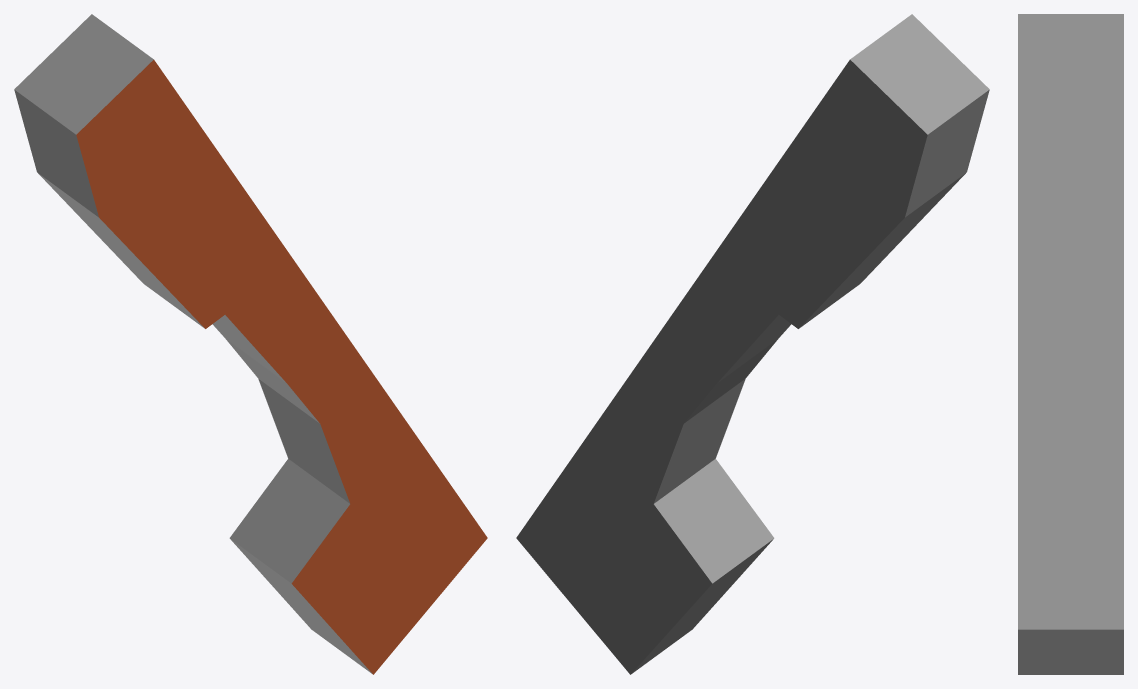
The model's file is construction_3304_assumed_A_Casa_h6m.obj.
3 views of the same model, side by side, from view 1: azimuth 30°, elevation 25°; view 2: azimuth 150°, elevation 25°; view 3: azimuth 270°, elevation 25° (orthographic). The views are drawn at different scales.
Parts seen in each view (by area): view 1: construction_3304_assumed_A_Casa; view 2: construction_3304_assumed_A_Casa; view 3: construction_3304_assumed_A_Casa.
Part boxes in pixels (bbox=[...]): construction_3304_assumed_A_Casa: bbox=[14, 14, 487, 674]; construction_3304_assumed_A_Casa: bbox=[516, 14, 989, 674]; construction_3304_assumed_A_Casa: bbox=[1018, 14, 1123, 674].
Bounding box in the file's own units: 22.96 × 35.67 × 6.
